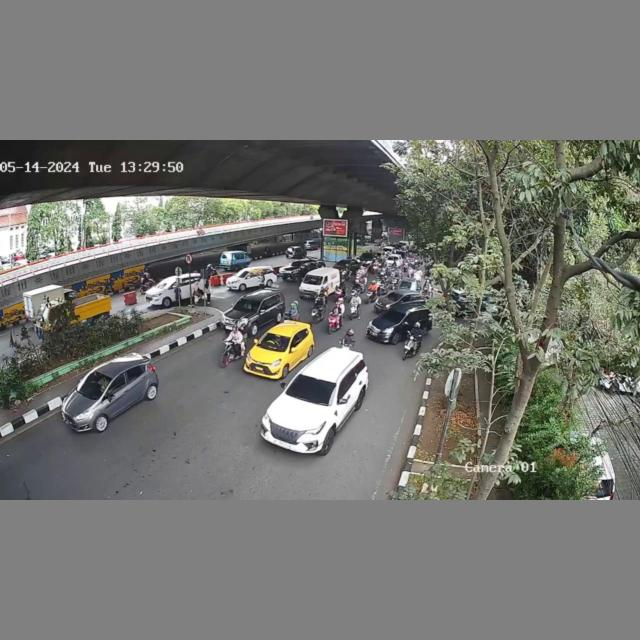windshield: (285, 374, 338, 407), (75, 370, 115, 399), (258, 332, 292, 350), (234, 298, 260, 313), (382, 308, 405, 324), (304, 273, 324, 286)
